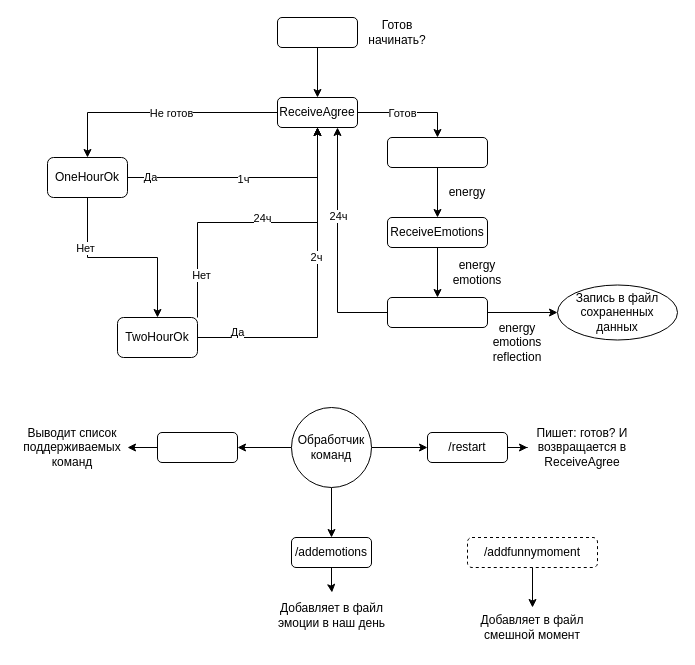
Some shapes in this 695 by 665 pixel diagram are drawn without their labels. The shapes that lost their labels are listed below. From the top down, each one's centre as x and y in pixels, then its label:
(x=317, y=32): Start
(x=437, y=152): ReceiveEnergy
(x=437, y=312): ReceiveReflection
(x=197, y=447): /help
